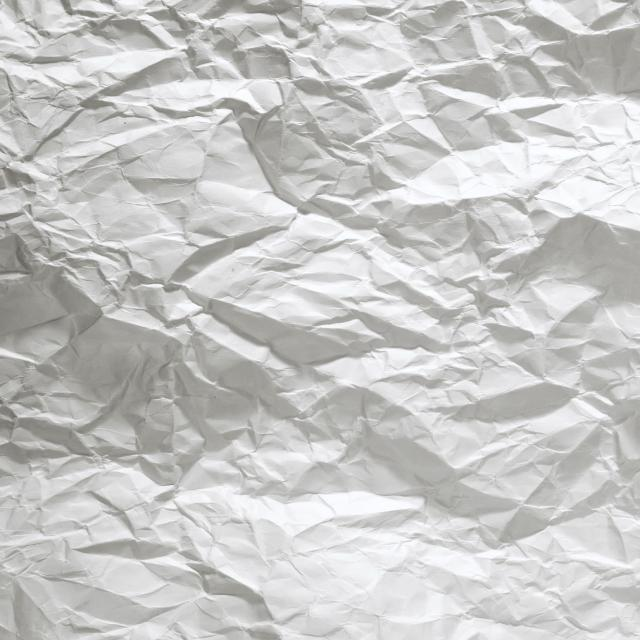paper: (136, 104, 568, 536)
